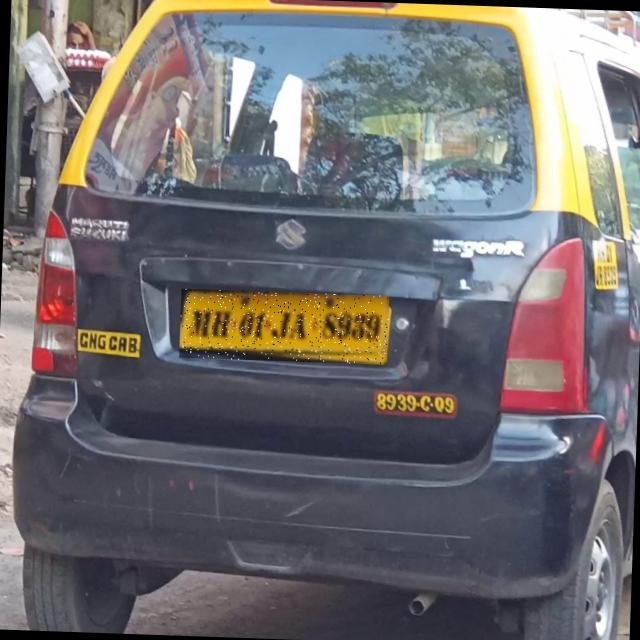Plate: (181, 290, 391, 366)
